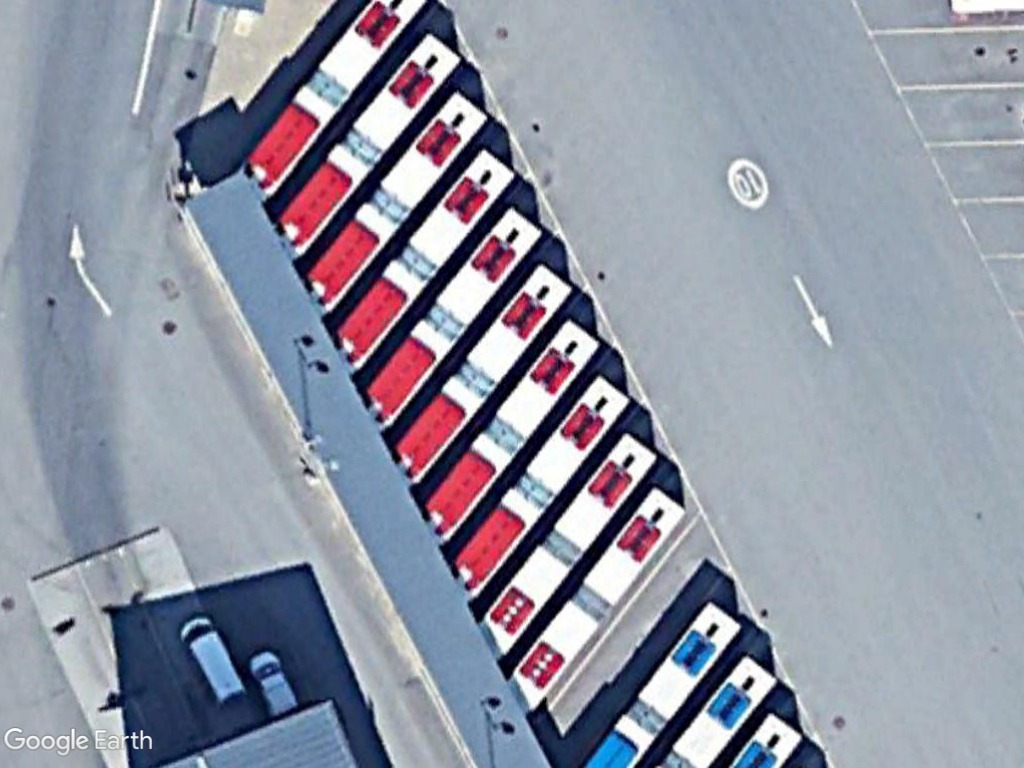bus: (443, 365, 635, 598), (500, 485, 689, 720), (279, 30, 468, 257), (474, 425, 658, 656), (362, 199, 550, 425), (421, 310, 602, 541), (392, 255, 575, 481), (334, 141, 516, 366), (305, 88, 486, 313), (250, 0, 433, 197)
van: (174, 610, 249, 706), (242, 643, 305, 717)
